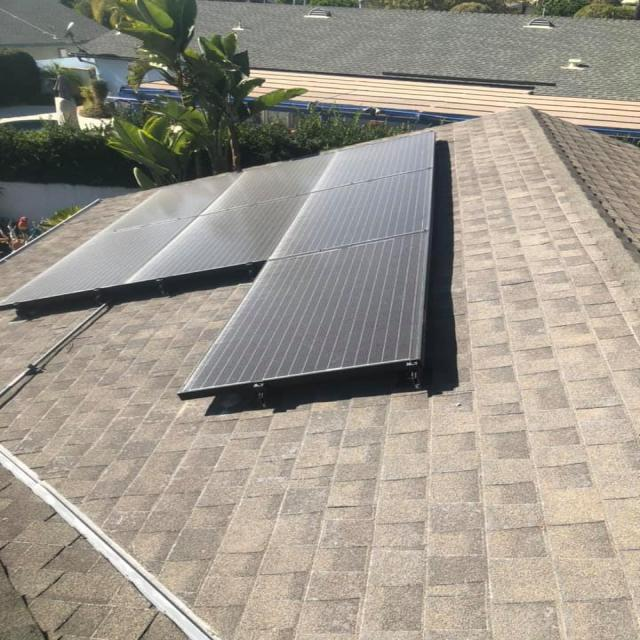dust-solar-panel: (0, 129, 432, 396)
